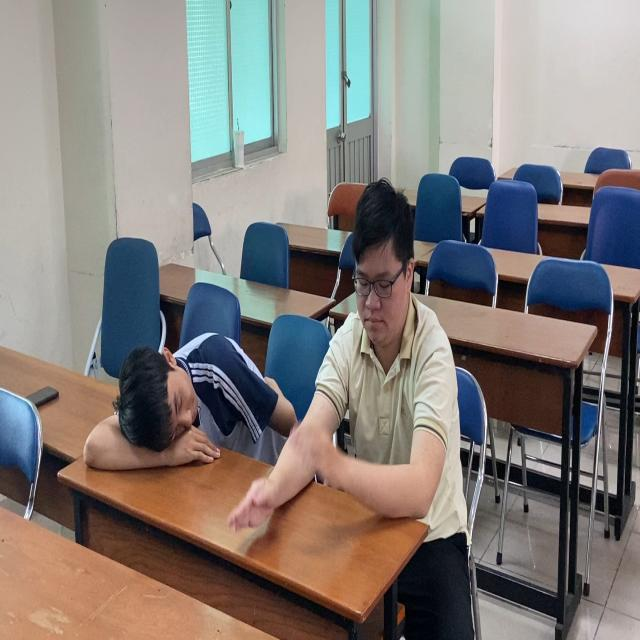sleep: (85, 322, 302, 490)
